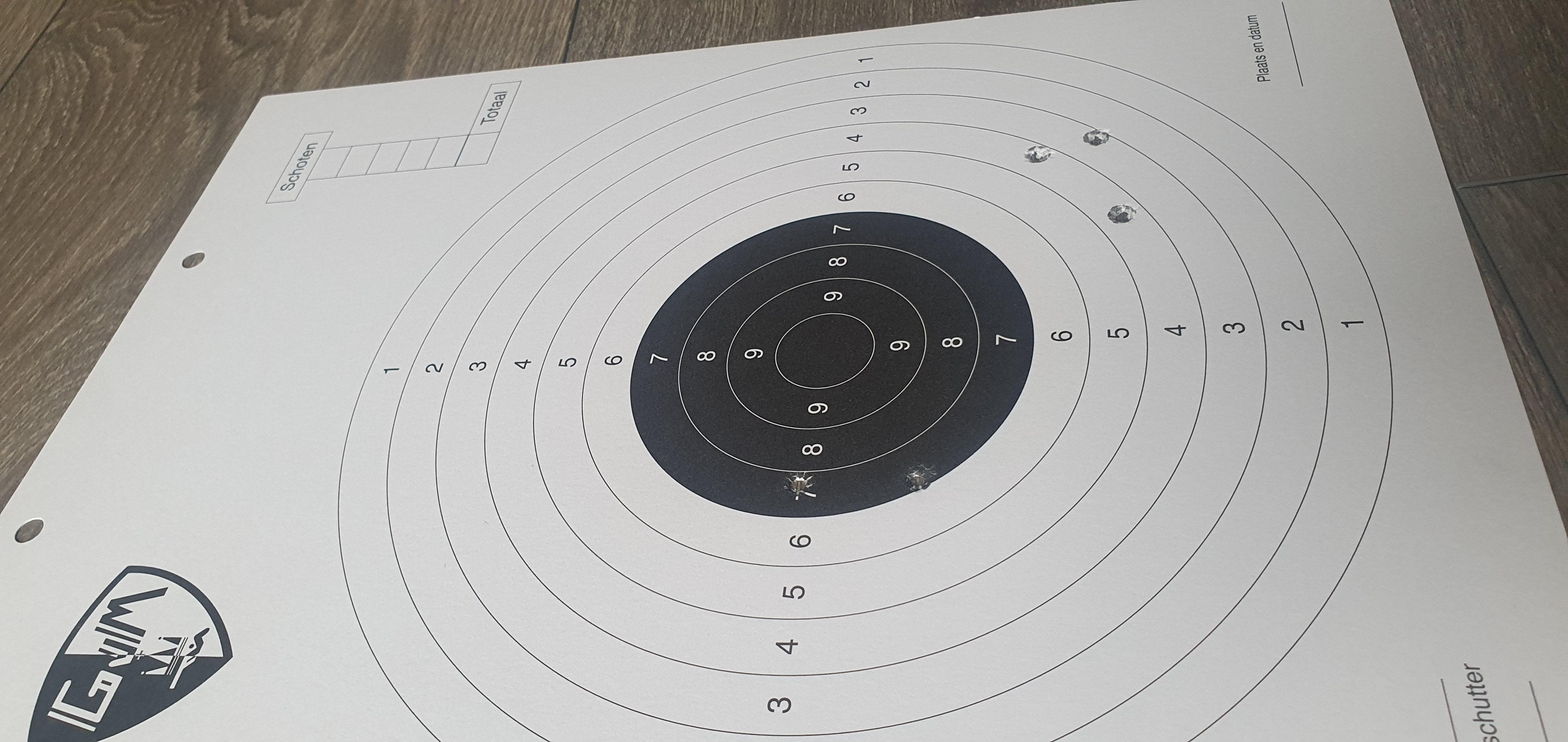hole: (902, 463, 937, 492), (782, 471, 817, 499), (1023, 145, 1055, 164), (1107, 204, 1137, 224), (1082, 128, 1111, 147)
